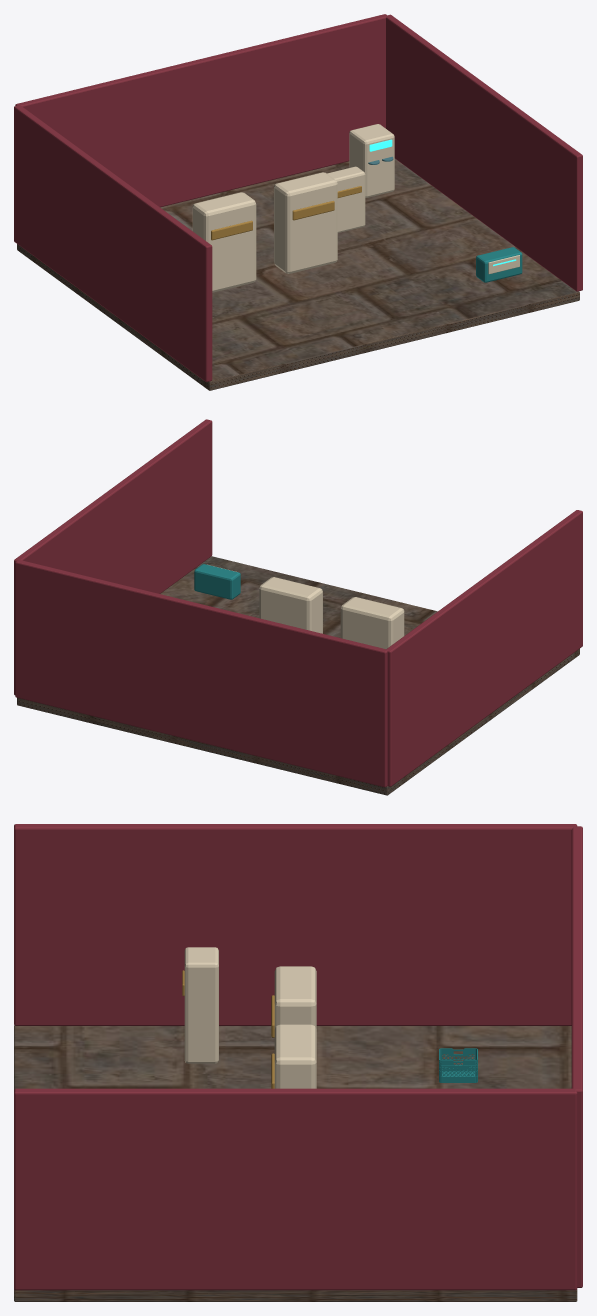
The model's file is location_odd_hours_v3.glb.
3 views of the same model, one above another, from view 1: azimuth 30°, elevation 25°; view 2: azimuth 150°, elevation 25°; view 3: azimuth 270°, elevation 25° (orthographic). The views are drawn at different scales.
Parts seen in each view (by area): view 1: location_odd_hours_v3_FLOOR, location_odd_hours_v3_BACK, location_odd_hours_v3_LEFT, location_odd_hours_v3_RIGHT, INT_STORE_SHELF_BODY.002, INT_STORE_SHELF_BODY.001, INT_VENDING_MACHINE_BODY.001, INT_COUNTER_STOOL_BODY.001, STREET_NEWSPAPER_BOX_BODY.001; view 2: location_odd_hours_v3_BACK, location_odd_hours_v3_LEFT, location_odd_hours_v3_RIGHT, location_odd_hours_v3_FLOOR, INT_STORE_SHELF_BODY.002, INT_STORE_SHELF_BODY.001, STREET_NEWSPAPER_BOX_BODY.001; view 3: location_odd_hours_v3_RIGHT, location_odd_hours_v3_LEFT, location_odd_hours_v3_FLOOR, location_odd_hours_v3_BACK, INT_MAGAZINE_RACK_BODY.001, INT_STORE_SHELF_BODY.002, INT_STORE_SHELF_BODY.001, plastic_crate_01.001.
Part boxes in pixels (box(x1,y1,x2,y2)): location_odd_hours_v3_FLOOR: box(17, 159, 579, 390); location_odd_hours_v3_BACK: box(15, 14, 386, 207); location_odd_hours_v3_LEFT: box(14, 105, 212, 381); location_odd_hours_v3_RIGHT: box(386, 14, 582, 291); INT_STORE_SHELF_BODY.002: box(274, 172, 337, 273); INT_STORE_SHELF_BODY.001: box(192, 192, 256, 292); INT_VENDING_MACHINE_BODY.001: box(349, 124, 394, 197); INT_COUNTER_STOOL_BODY.001: box(327, 166, 365, 232); STREET_NEWSPAPER_BOX_BODY.001: box(476, 247, 522, 282); location_odd_hours_v3_BACK: box(15, 560, 387, 787); location_odd_hours_v3_LEFT: box(386, 510, 582, 786); location_odd_hours_v3_RIGHT: box(14, 419, 212, 694); location_odd_hours_v3_FLOOR: box(17, 556, 579, 795); INT_STORE_SHELF_BODY.002: box(259, 577, 322, 633); INT_STORE_SHELF_BODY.001: box(340, 597, 404, 648); STREET_NEWSPAPER_BOX_BODY.001: box(194, 564, 240, 599); location_odd_hours_v3_RIGHT: box(14, 1088, 577, 1290); location_odd_hours_v3_LEFT: box(14, 824, 577, 1025); location_odd_hours_v3_FLOOR: box(14, 1025, 577, 1301); location_odd_hours_v3_BACK: box(571, 826, 582, 1287); INT_MAGAZINE_RACK_BODY.001: box(184, 947, 218, 1063); INT_STORE_SHELF_BODY.002: box(274, 1024, 316, 1088); INT_STORE_SHELF_BODY.001: box(274, 966, 316, 1028); plastic_crate_01.001: box(439, 1048, 477, 1082).
Size of the model in its own units: 10.18 by 3.74 by 9.09.
10 materials, 1 textured.
